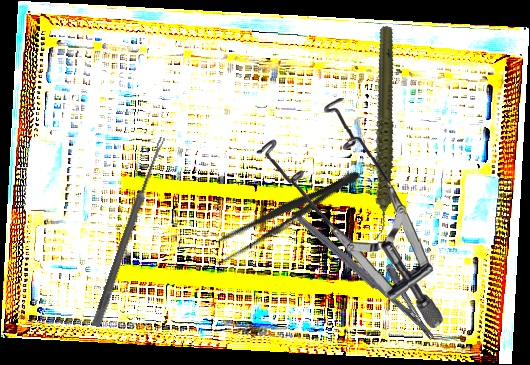Dressing Forceps: (205, 161, 367, 270)
Handpiece: (325, 23, 438, 243)
Needle Holder: (295, 196, 453, 343)
Speculum: (253, 94, 445, 335)
Surgical Spoon: (91, 135, 167, 329)
